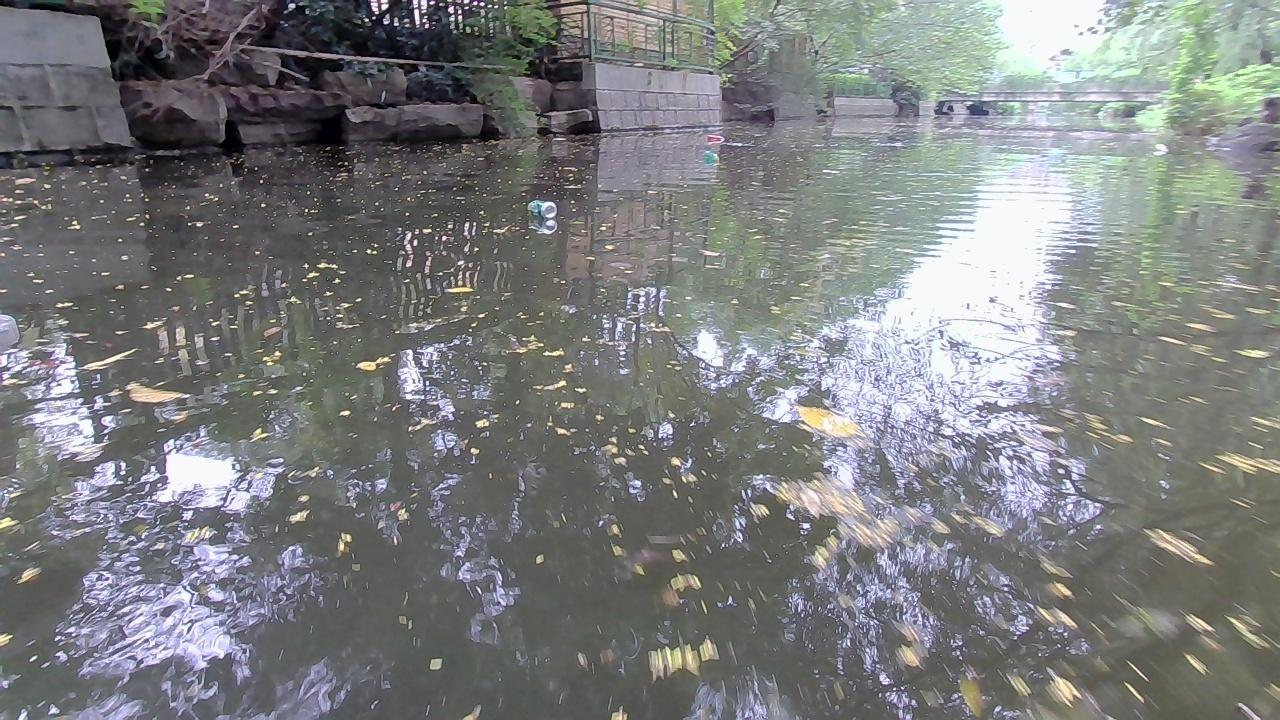bottle: (526, 198, 559, 217), (699, 149, 716, 160), (705, 134, 728, 140), (1154, 141, 1167, 151)
